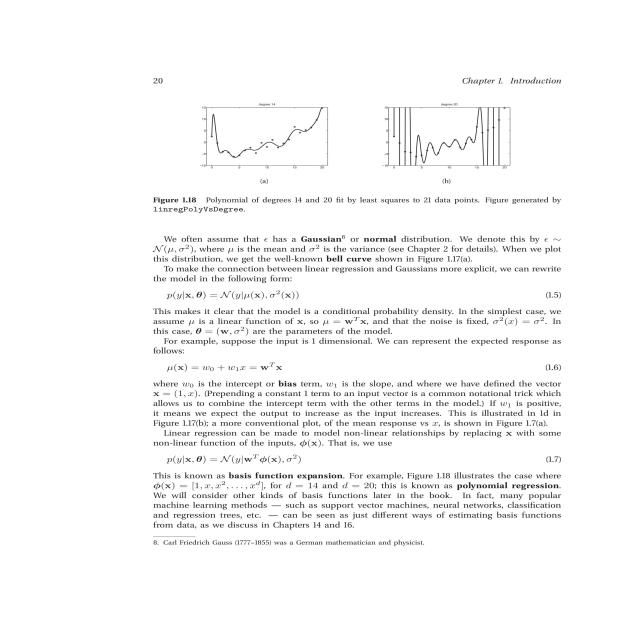diagram: (105, 94, 640, 231)
